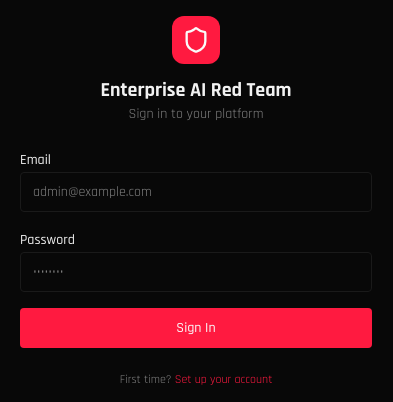
it: Login page › shows 'Signing in...' while the mutation is pending
Type "test@example.com" into the field labelled "Email" at x=196, y=192, box [20, 172, 372, 212]
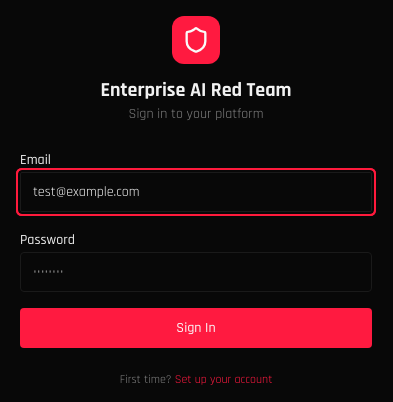
Type "password123" into the password field labelled "Password" at x=196, y=272, box [20, 252, 372, 292]
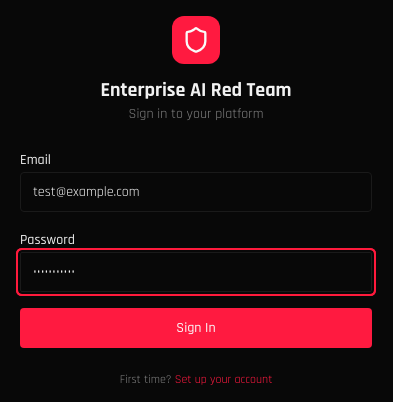
Click the button "Sign In" at x=196, y=328, box [20, 308, 372, 348]
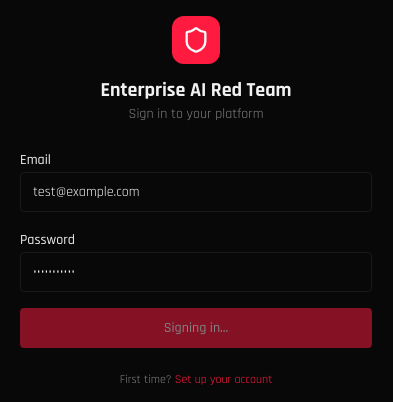
Expected: the button "Signing in..." is disabled, [20, 308, 372, 348]
